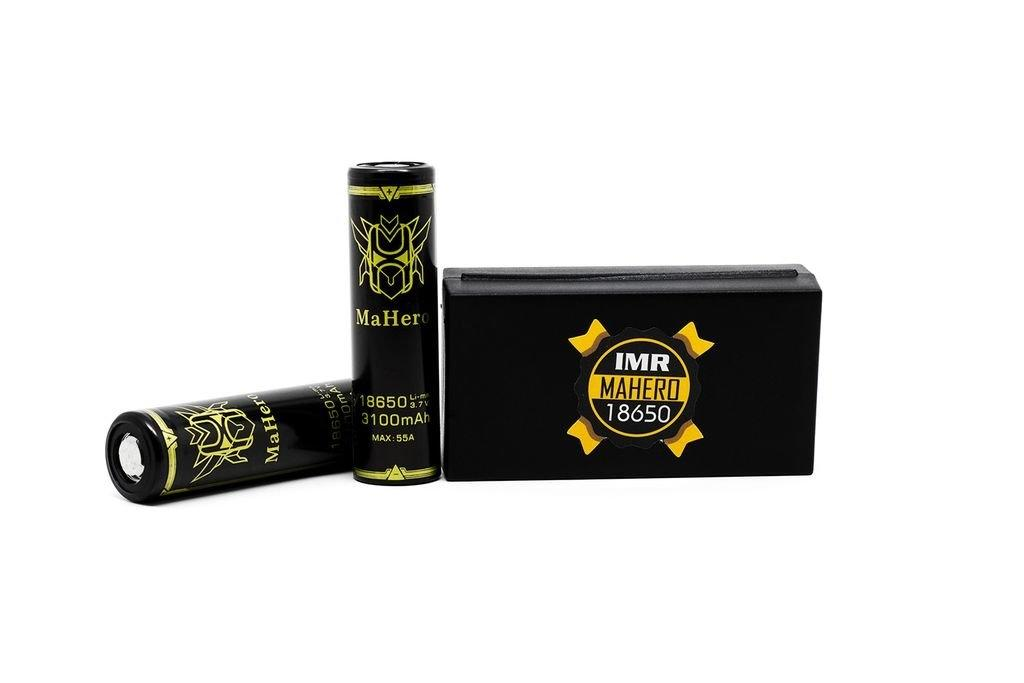Battery: (98, 370, 356, 509), (342, 156, 449, 490)
